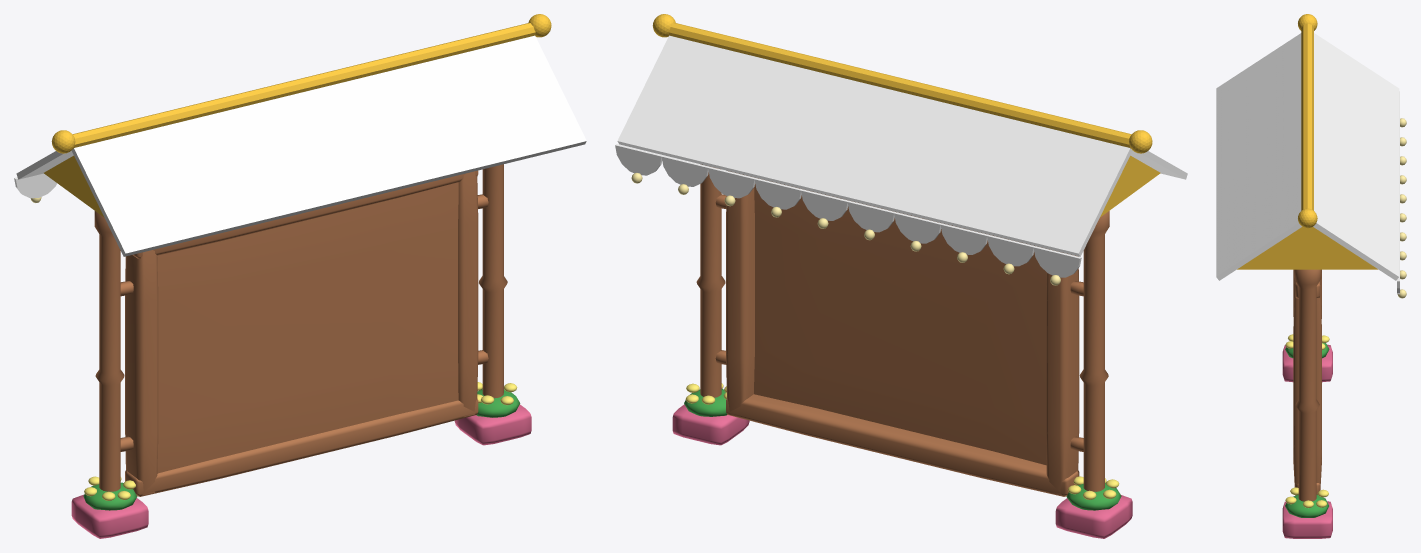
Rendered from LobbyQuestKiosk.obj.
3 views of the same model, side by side, from view 1: azimuth 30°, elevation 25°; view 2: azimuth 150°, elevation 25°; view 3: azimuth 270°, elevation 25° (orthographic). The views are drawn at different scales.
Visible parts, largest first — view 1: Wood, Roof, RoofB, Trim, Planter, Leaves, Flowers; view 2: Wood, Roof, RoofB, Trim, Planter, Leaves, Bulbs, Flowers; view 3: Roof, RoofB, Wood, Trim, Planter, Leaves, Bulbs, Flowers.
Boxes of the visible parts, x1,y1,x2,y2 form: Wood: (94, 164, 507, 496); Roof: (14, 35, 586, 256); RoofB: (34, 68, 568, 219); Trim: (44, 14, 551, 217); Planter: (71, 404, 531, 538); Leaves: (83, 389, 520, 510); Flowers: (84, 382, 517, 500); Wood: (696, 164, 1109, 496); Roof: (615, 35, 1187, 277); RoofB: (635, 68, 1169, 219); Trim: (652, 14, 1160, 217); Planter: (672, 404, 1132, 538); Leaves: (684, 389, 1121, 510); Bulbs: (631, 172, 1060, 285); Flowers: (685, 383, 1119, 499); Roof: (1216, 33, 1399, 294); RoofB: (1246, 49, 1369, 261); Wood: (1293, 269, 1321, 501); Trim: (1237, 14, 1377, 269); Planter: (1282, 344, 1332, 538); Leaves: (1285, 343, 1329, 517); Bulbs: (1397, 118, 1406, 298); Flowers: (1285, 334, 1329, 508).
Bounding box in the file's own units: 26.7 × 20.85 × 10.6.
